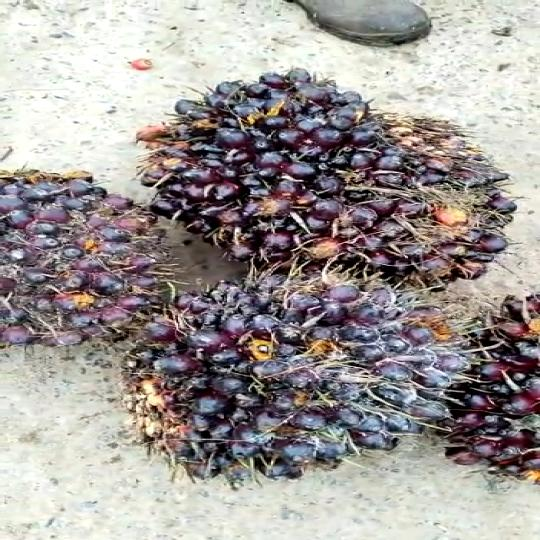kurang masak: (160, 66, 540, 288), (146, 277, 446, 475), (0, 172, 179, 373)
